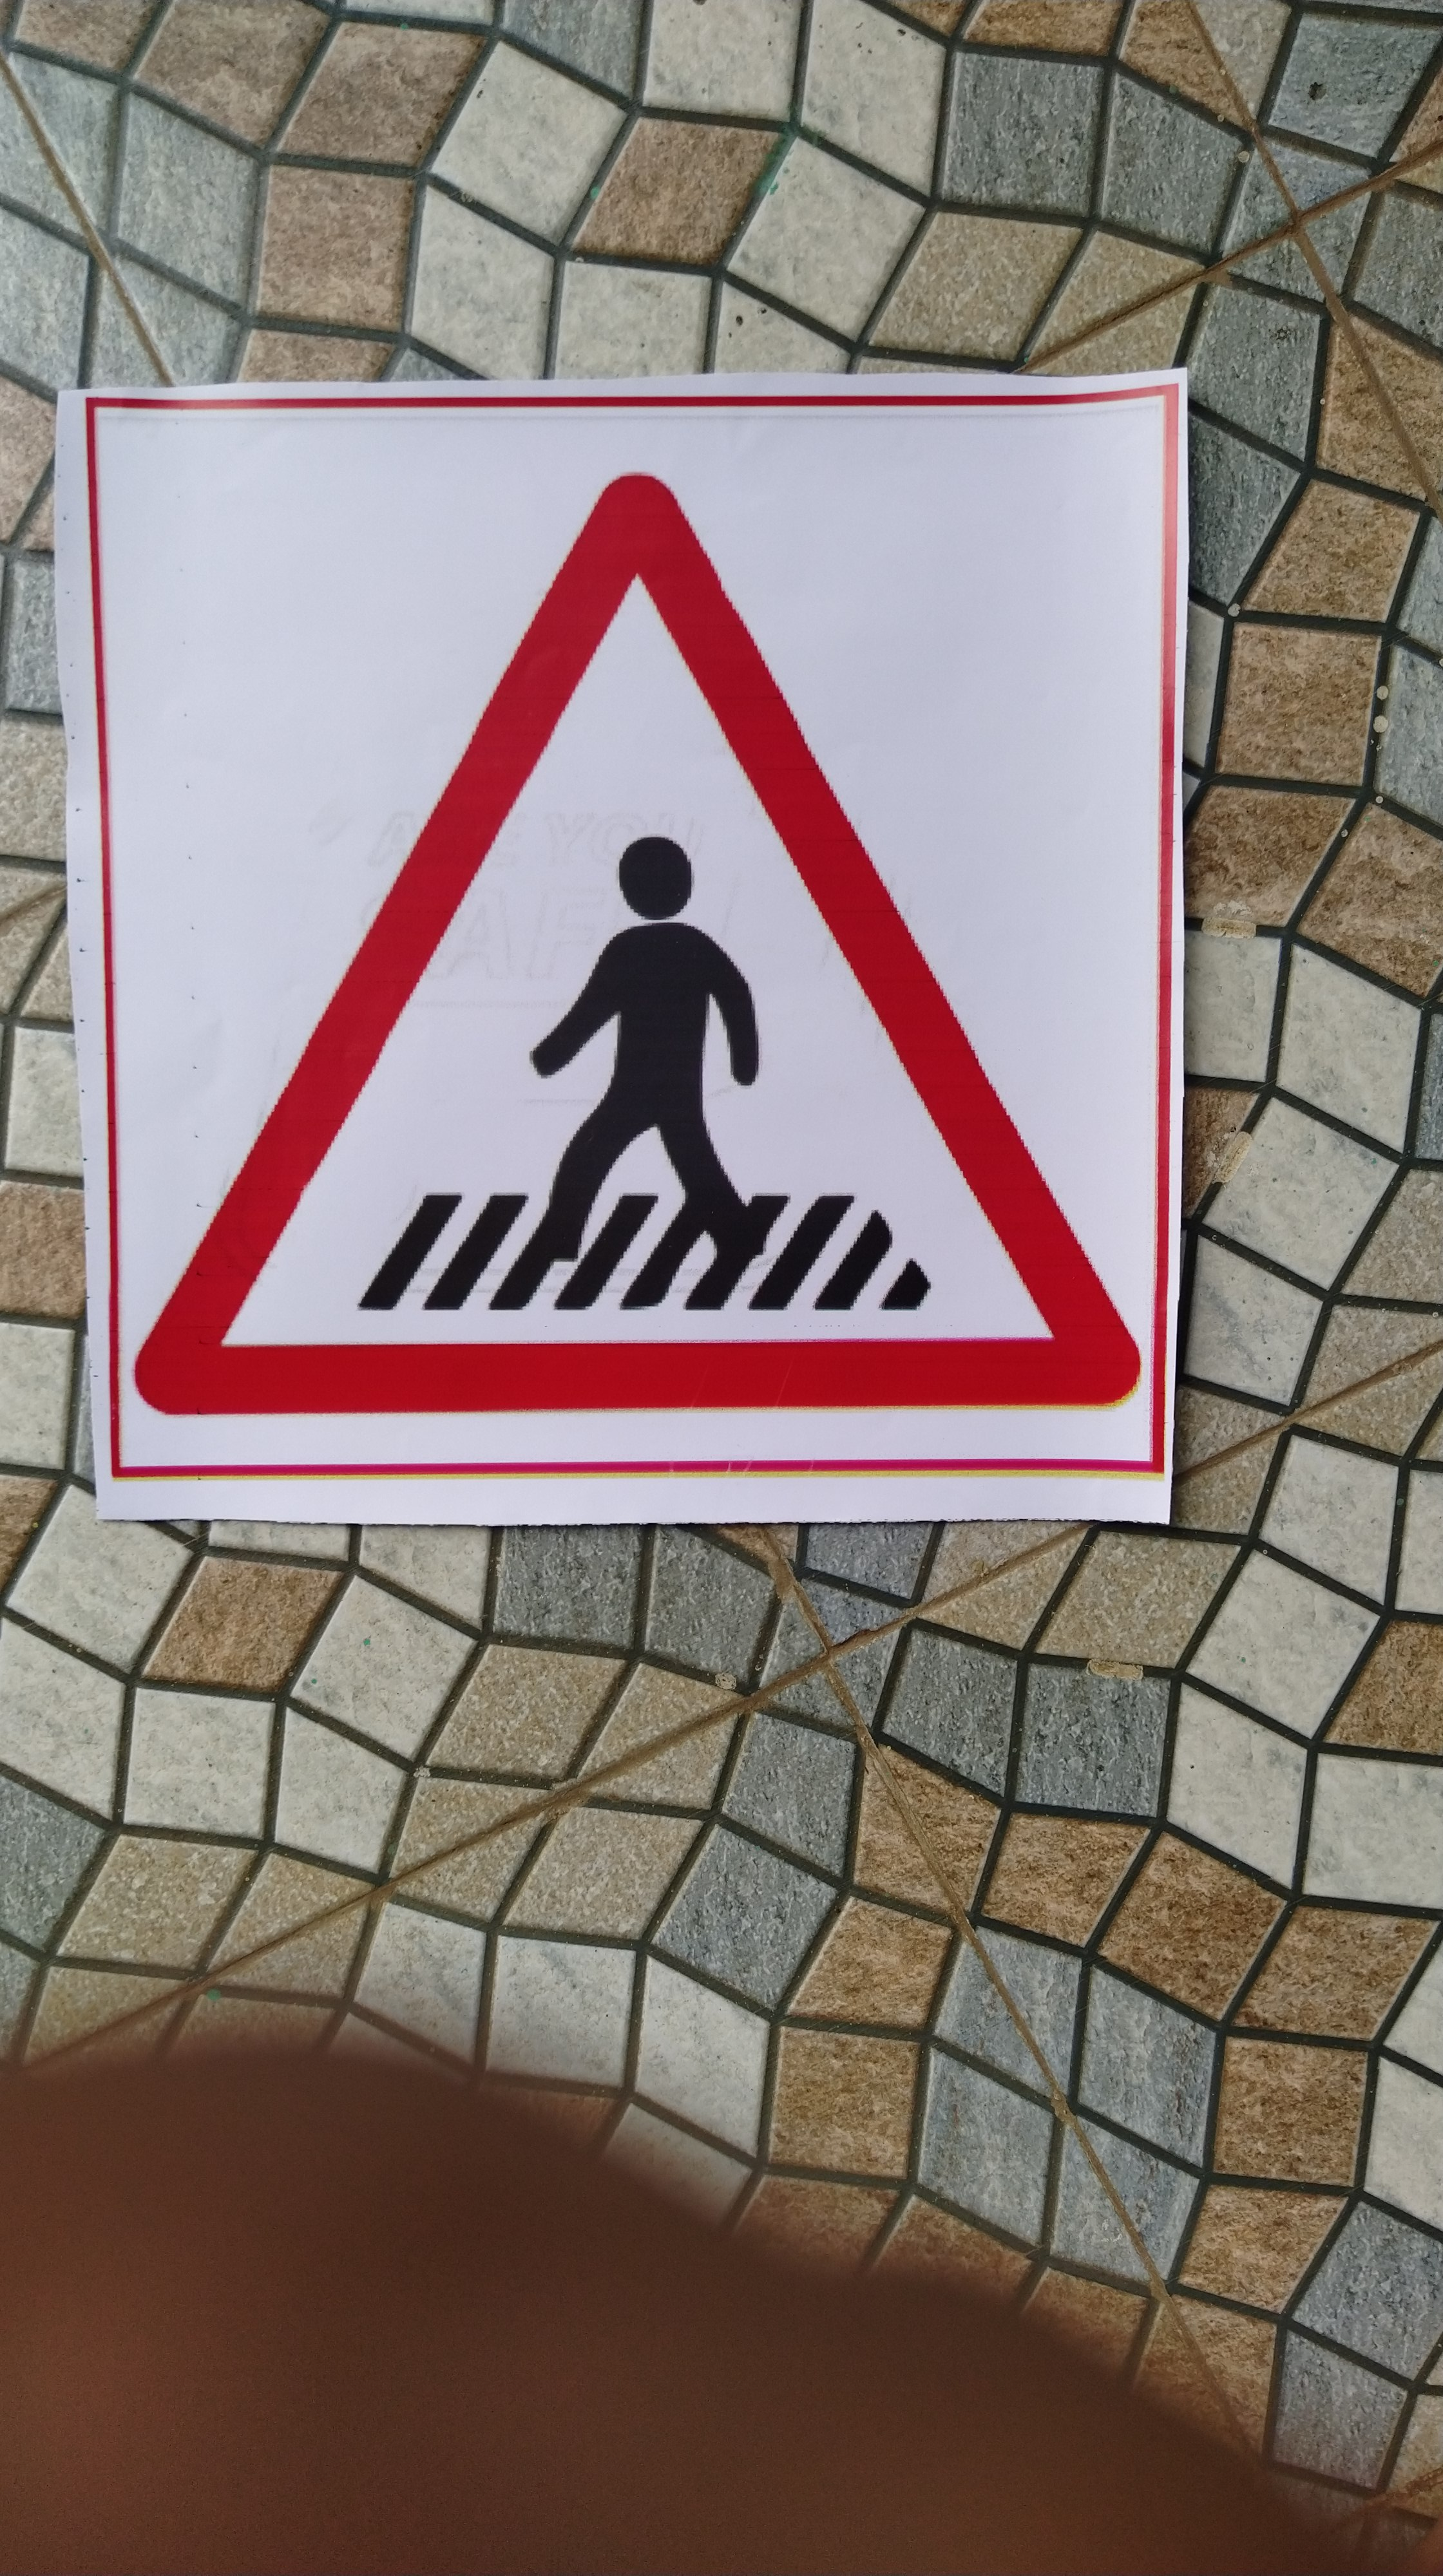pedestrain crossing: (106, 414, 1137, 1500)
